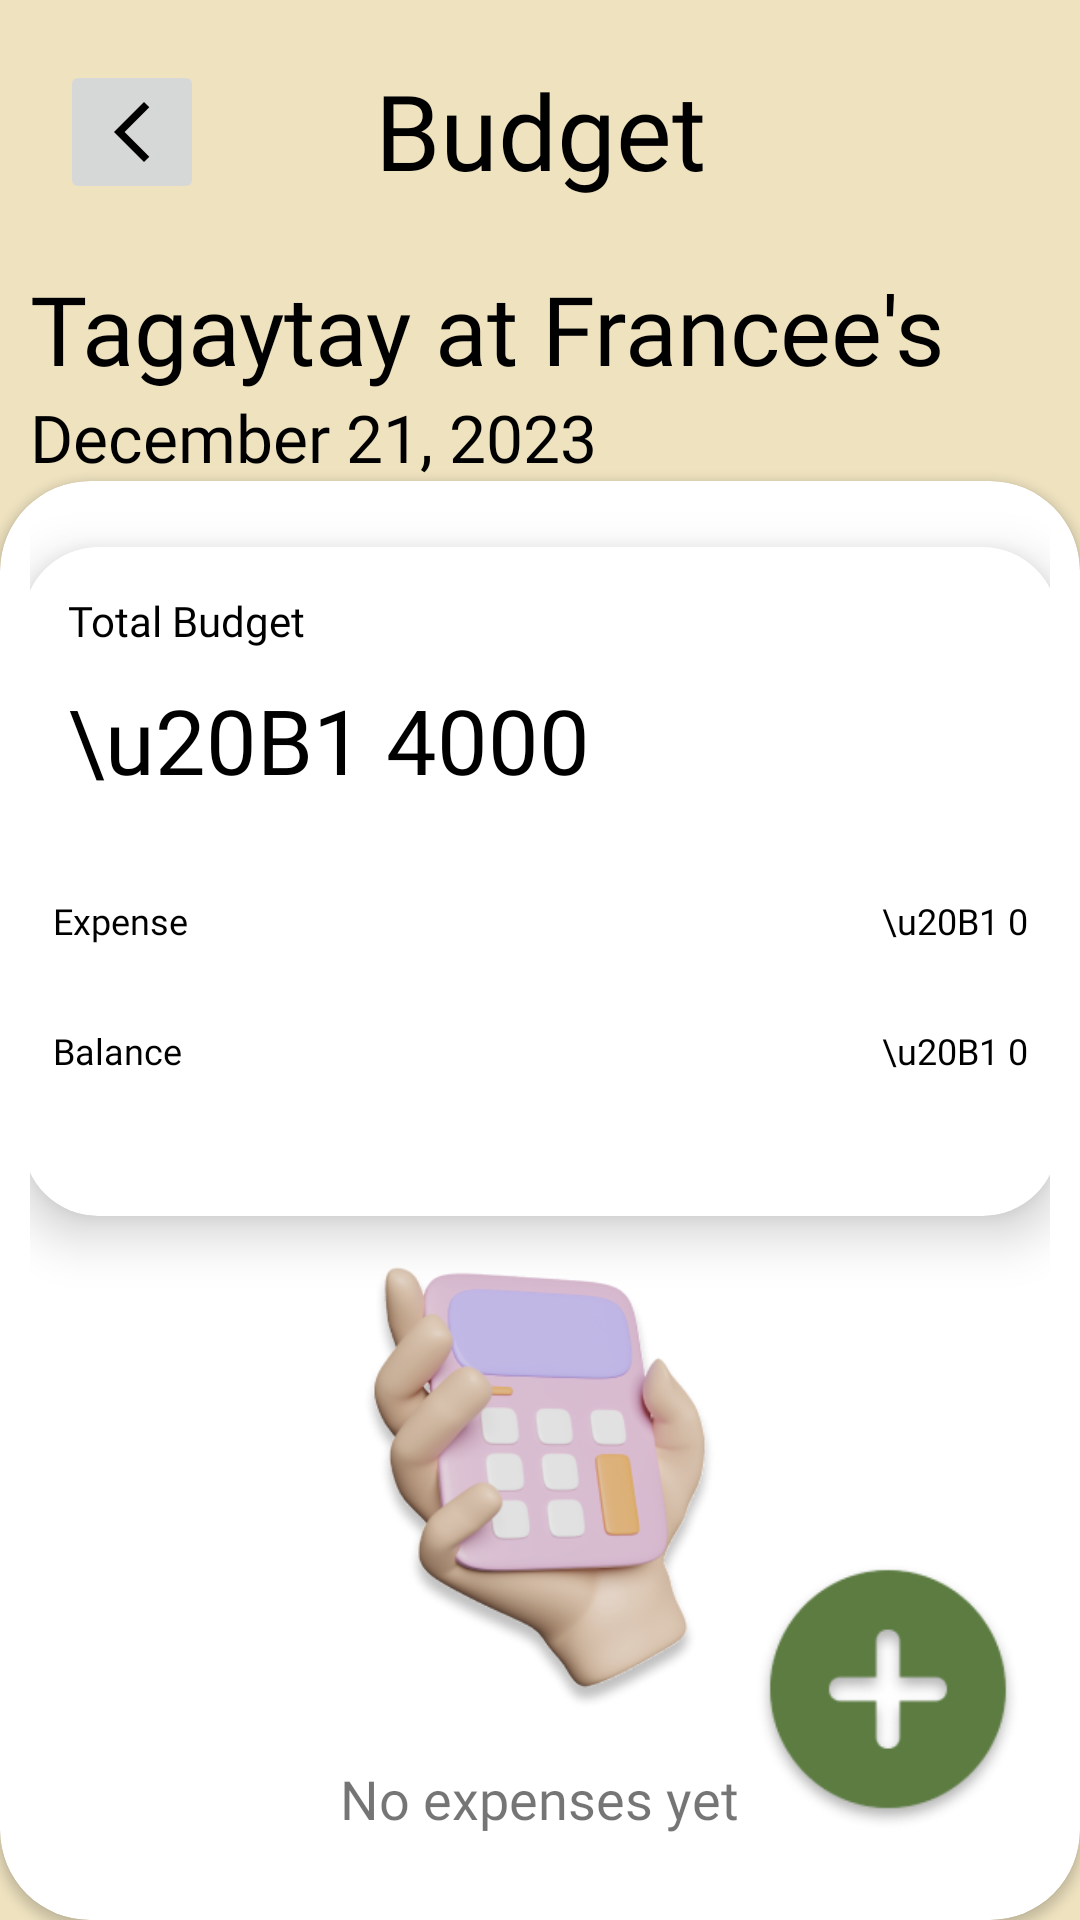

Named icons in this screenshot (1080w x 1920h) and their centers, [x,y]:
addbutton: [867,1695]
return button: [132,132]
